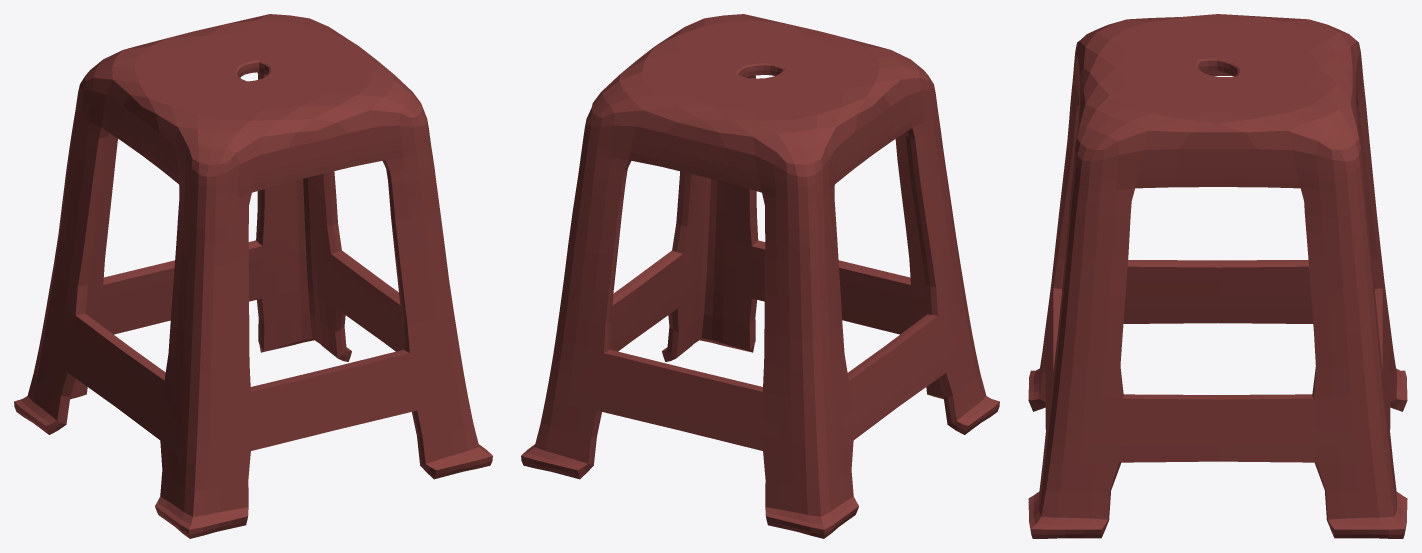
Rendered from plastic_chair.glb.
3 views of the same model, side by side, from view 1: azimuth 30°, elevation 25°; view 2: azimuth 150°, elevation 25°; view 3: azimuth 270°, elevation 25° (orthographic). The views are drawn at different scales.
Parts seen in each view (by area): view 1: Object_2; view 2: Object_2; view 3: Object_2.
Part boxes in pixels (left/top/right/bottom): Object_2: left=14, top=14, right=492, bottom=538; Object_2: left=521, top=14, right=999, bottom=538; Object_2: left=1028, top=14, right=1407, bottom=538.
Bounding box in the file's own units: 2.47 × 2.84 × 2.48.
